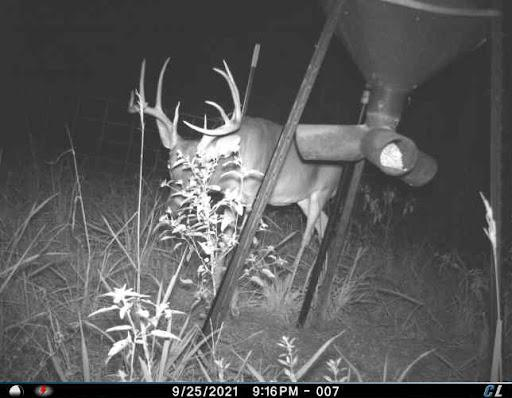Deer: (122, 50, 348, 304)
